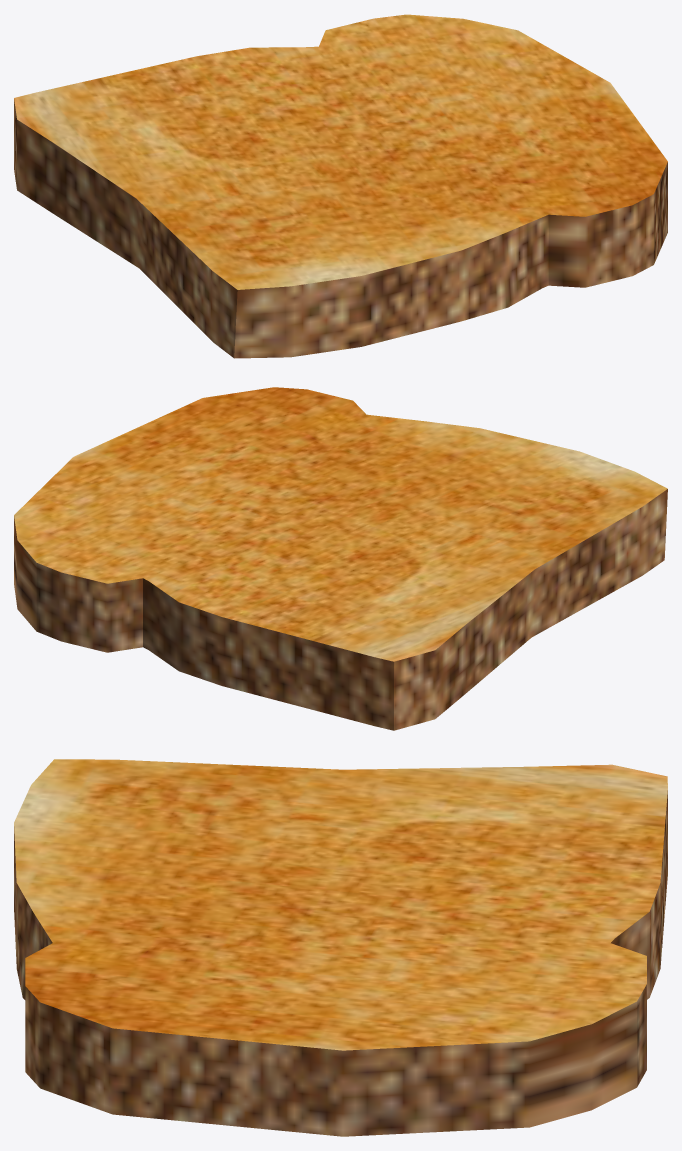
File: tostada.fbx
3 renders of one model, top to bottom at view 1: azimuth 30°, elevation 25°; view 2: azimuth 150°, elevation 25°; view 3: azimuth 270°, elevation 25°, orthographic. The views are drawn at different scales.
Parts seen in each view (by area): view 1: pCube1; view 2: pCube1; view 3: pCube1.
Boxes of the visible parts, left/top/right/bottom form: pCube1: left=14, top=14, right=667, bottom=358; pCube1: left=14, top=387, right=667, bottom=730; pCube1: left=14, top=759, right=667, bottom=1136.
Bounding box in the file's own units: 2.83 × 0.3903 × 2.69.
Materials: 2 (2 with a texture image).
